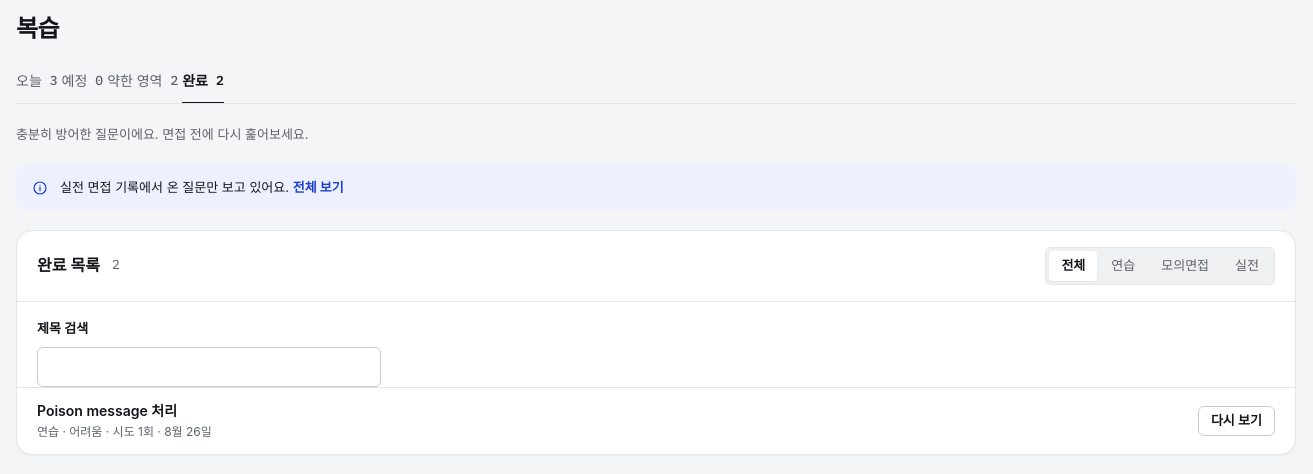
Test: ArchivePage › honours the deep link from a real interview record and can clear it
The image size is (1313, 474).
Expected: the text "실전 면접 기록에서 온 질문만 보고 있어요." is shown, top-left (60, 179), bottom-right (289, 195)
Expected: the text "40% 지연 개선 측정" is not shown
Click the button "전체 보기".
click(318, 187)  # box top-left (293, 177), bottom-right (344, 198)
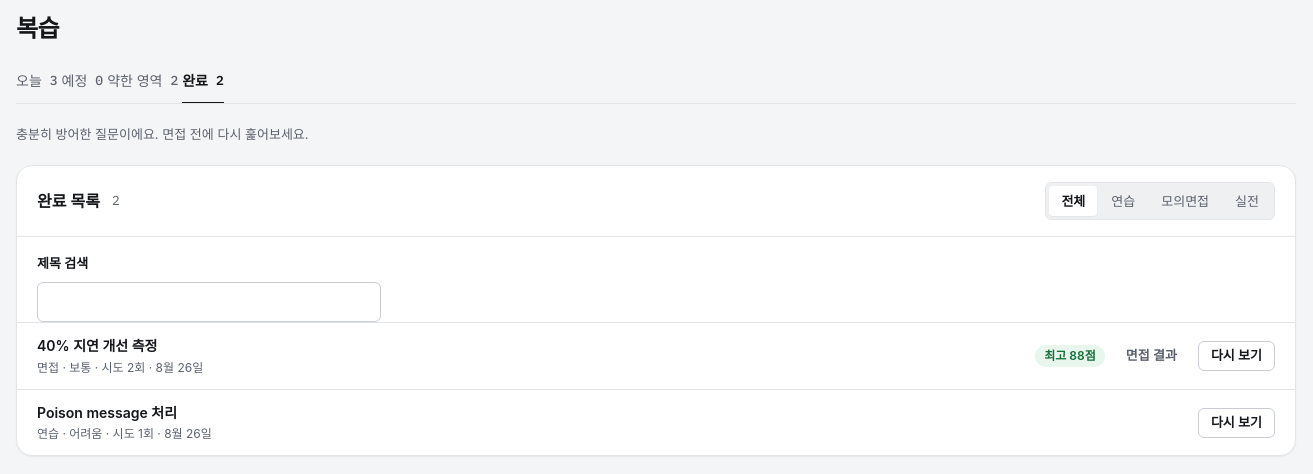
Result: the text "40% 지연 개선 측정" is shown at top-left (37, 337), bottom-right (158, 354)
